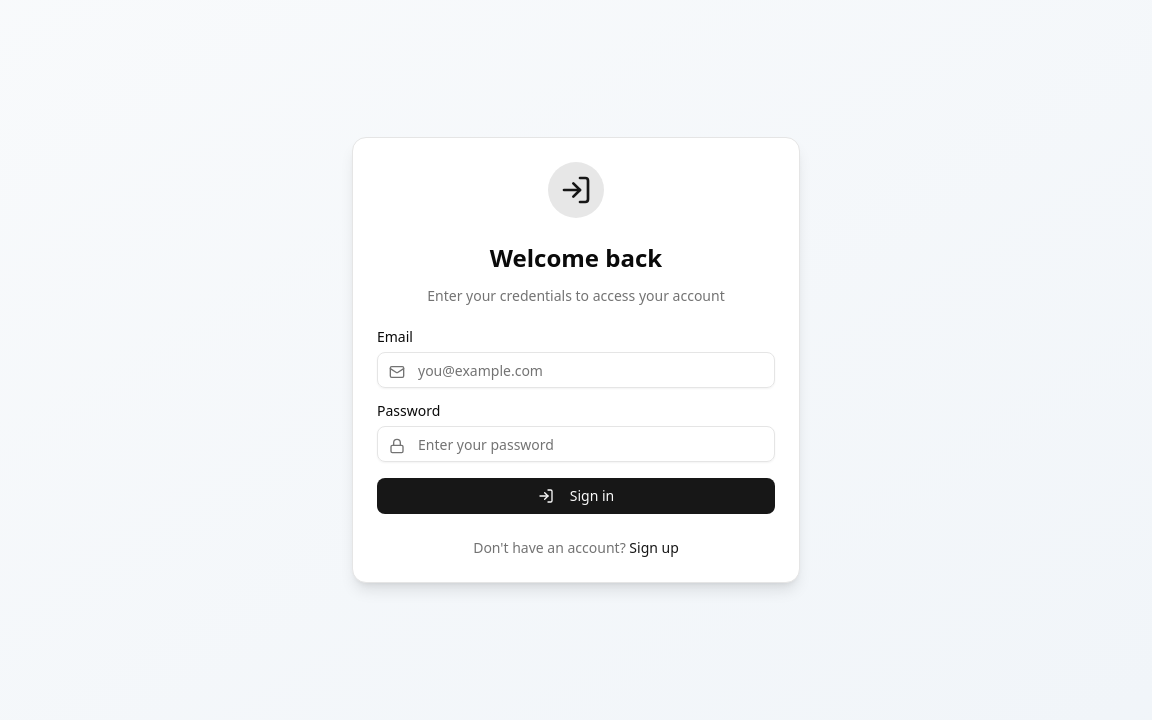
Test: Login › keeps student logins on the shared home route
The width and height of the screenshot is (1152, 720).
Step 1. Type "person@example.com" into the field with placeholder "you@example.com" → (576, 370), box left=377, top=352, right=775, bottom=388
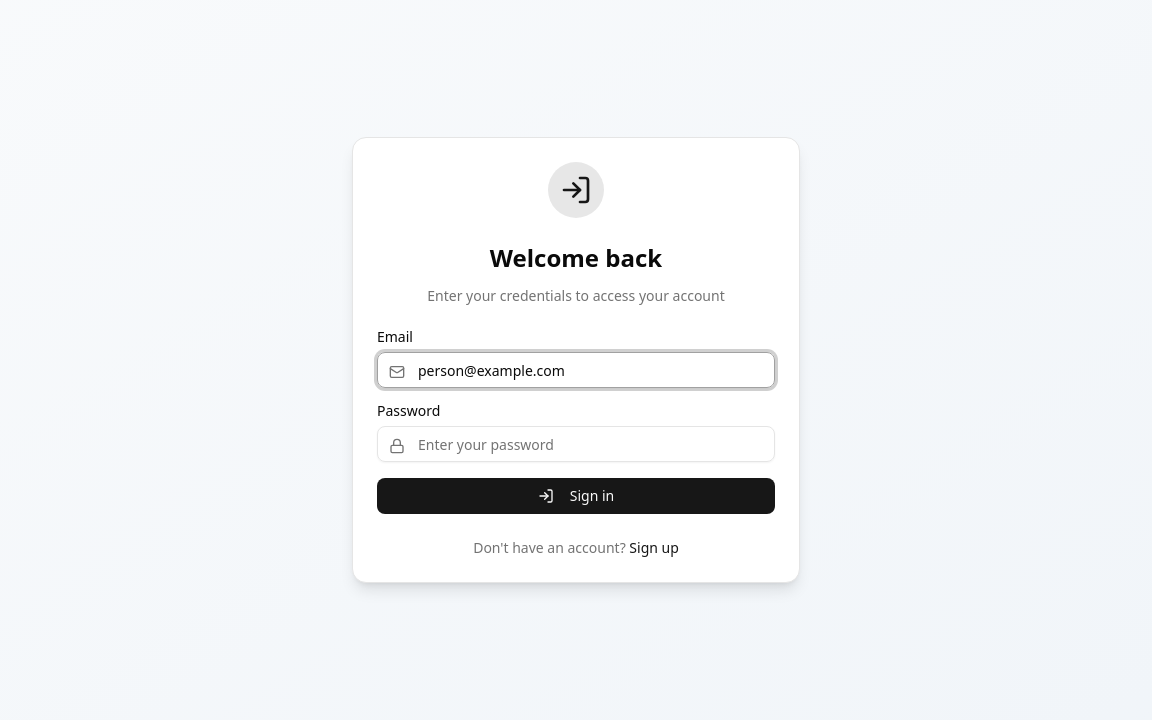
Step 2. Type "secret" into the password field with placeholder "Enter your password" → (576, 444), box left=377, top=426, right=775, bottom=462
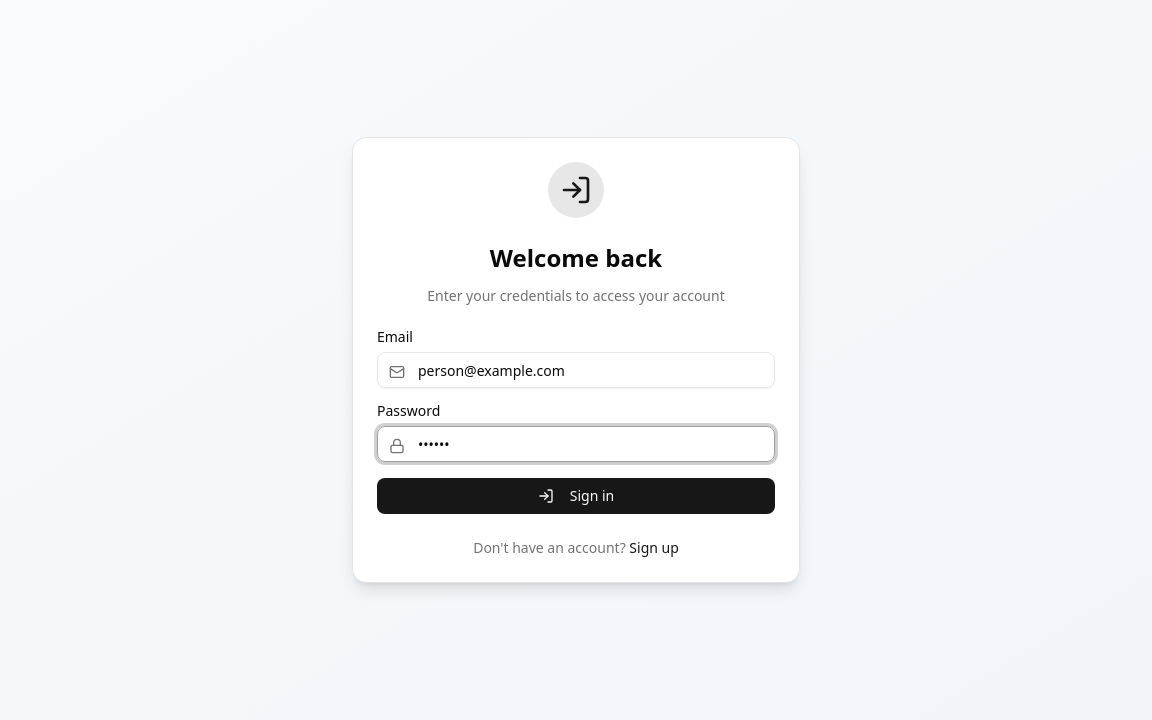
Step 3. Click the button "Sign in" → click(576, 496), box left=377, top=478, right=775, bottom=514
(page scrolled)
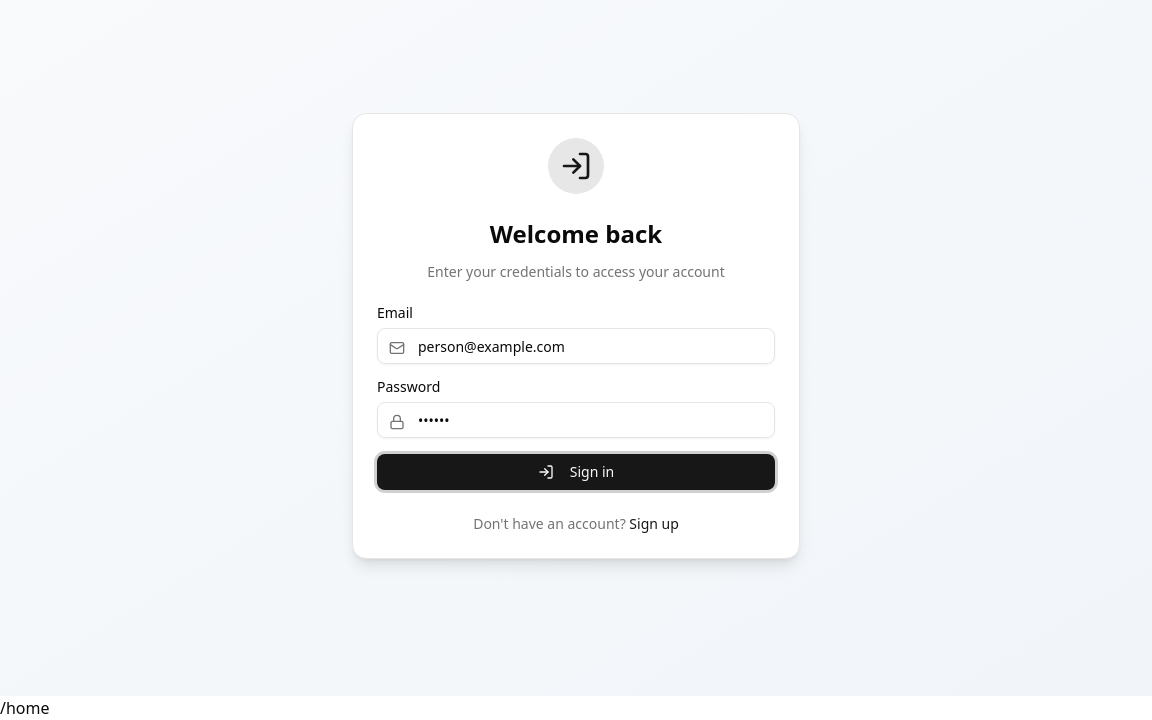
Expected: the text with test id "location" reads "/home", left=0, top=697, right=50, bottom=719
